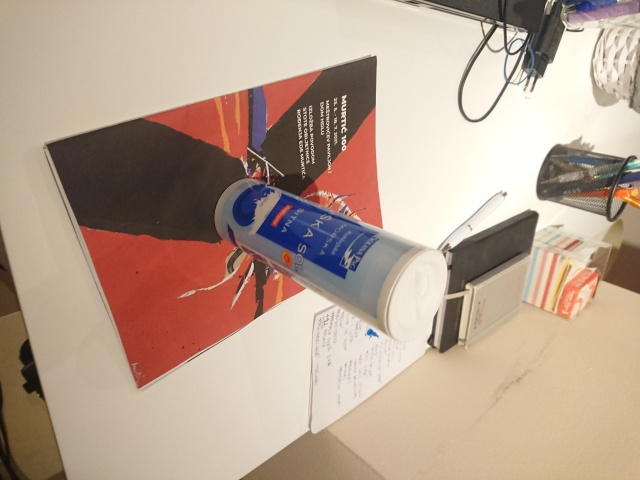Solana Pag Fine Sea Salt 250g: (211, 175, 450, 344)
